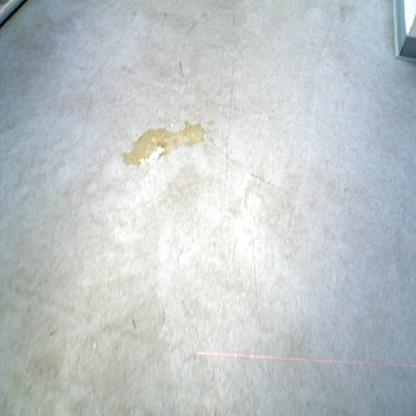liquid: (122, 119, 206, 170), (205, 118, 214, 126)
mark: (226, 1, 237, 126), (202, 128, 236, 166), (250, 232, 262, 328), (184, 10, 209, 38), (249, 172, 274, 187), (338, 2, 355, 22), (128, 313, 138, 331), (161, 305, 167, 327), (121, 64, 134, 74), (178, 58, 184, 79), (212, 404, 218, 416), (343, 185, 349, 193), (162, 10, 167, 18)
